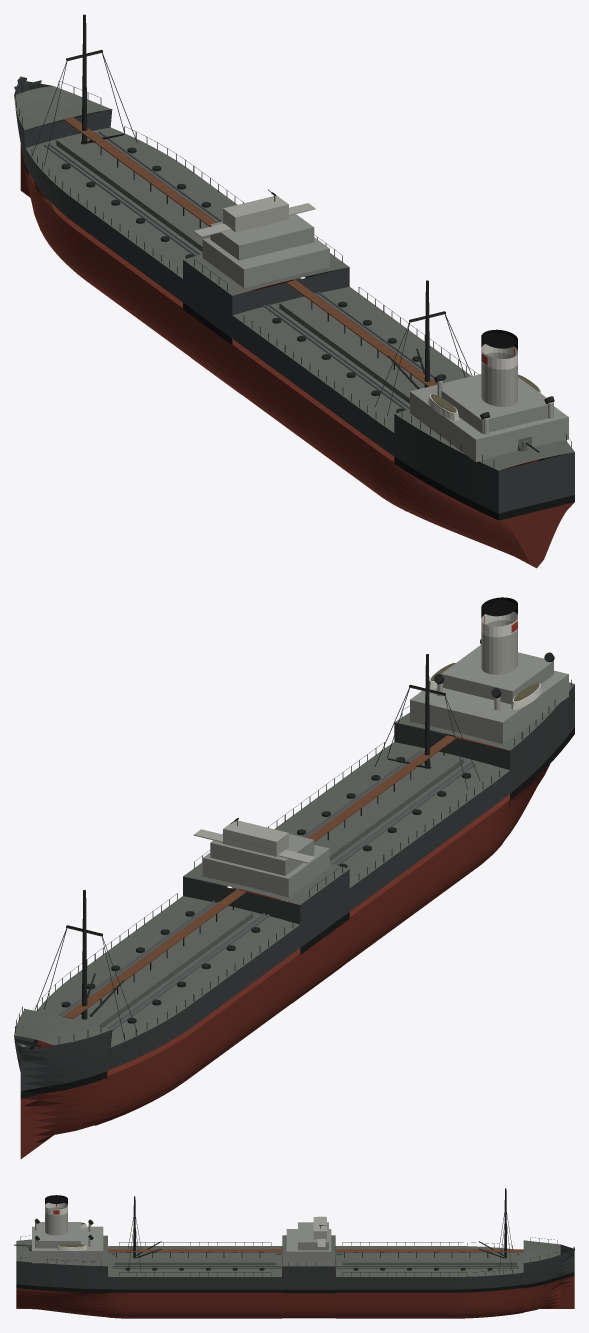
File: tanker_maru.glb
3 renders of one model, top to bottom at view 1: azimuth 30°, elevation 25°; view 2: azimuth 150°, elevation 25°; view 3: azimuth 270°, elevation 25°, orthographic. The views are drawn at different scales.
Parts seen in each view (by area): view 1: Hull; view 2: Hull; view 3: Hull.
Part boxes in pixels (bbox=[...]): Hull: bbox=[14, 14, 574, 568]; Hull: bbox=[14, 597, 574, 1159]; Hull: bbox=[16, 1188, 574, 1318].
Size of the model in its own units: 16.4 by 29.7 by 126.
